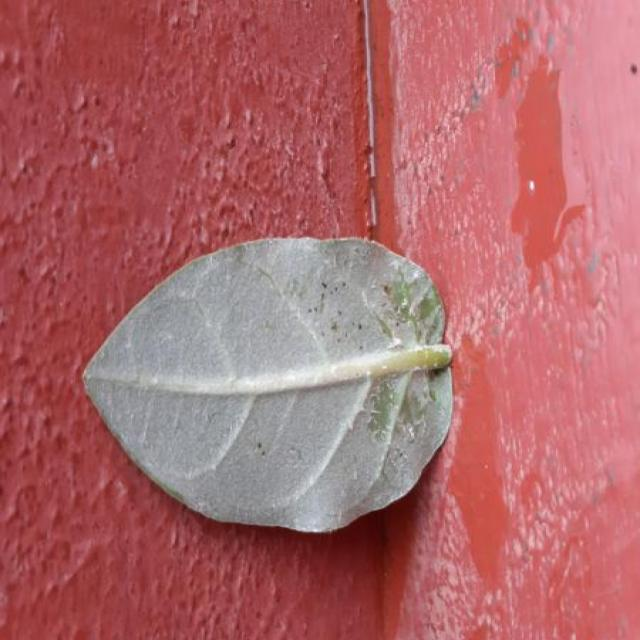ekka: (85, 239, 452, 532)
